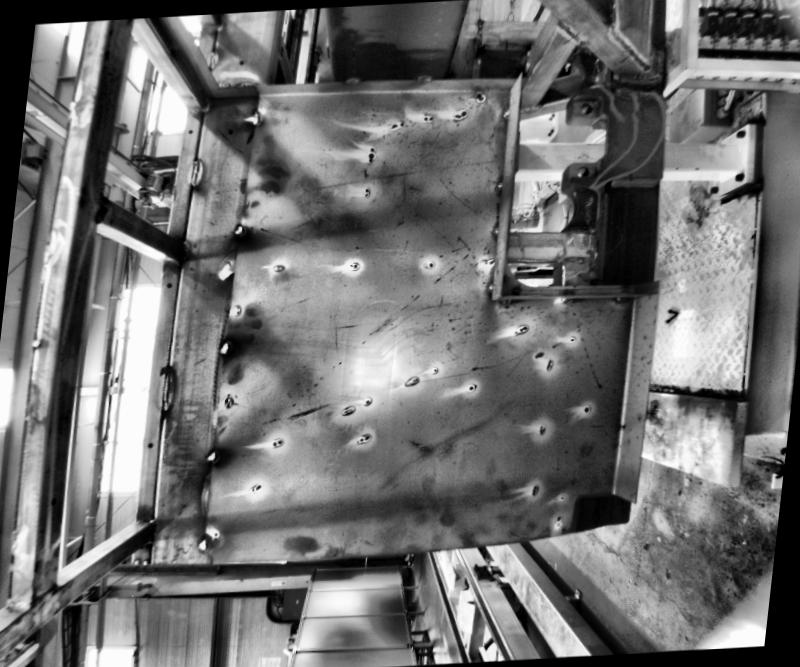hole: (574, 162, 589, 176), (582, 102, 597, 114), (236, 56, 248, 64), (165, 280, 175, 286), (227, 128, 236, 134), (147, 440, 154, 446), (190, 127, 194, 131)
welding: (608, 28, 651, 68), (554, 18, 580, 46), (162, 367, 175, 415), (206, 444, 226, 467), (207, 46, 221, 71), (190, 154, 202, 183), (234, 220, 250, 240), (416, 70, 435, 82), (180, 240, 190, 262), (250, 109, 262, 126), (220, 340, 234, 354), (501, 104, 514, 118), (611, 293, 631, 302), (496, 175, 508, 188), (198, 536, 211, 548), (553, 294, 574, 300), (492, 221, 501, 233), (487, 280, 494, 292), (348, 76, 360, 83), (498, 298, 508, 303)
